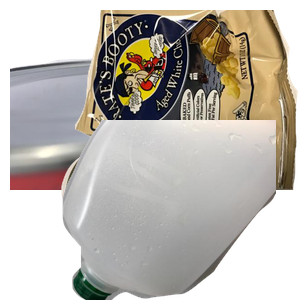glass: (59, 135, 254, 300)
metal: (10, 52, 250, 232)
plastic: (60, 120, 300, 300)
trash: (75, 10, 300, 190)
